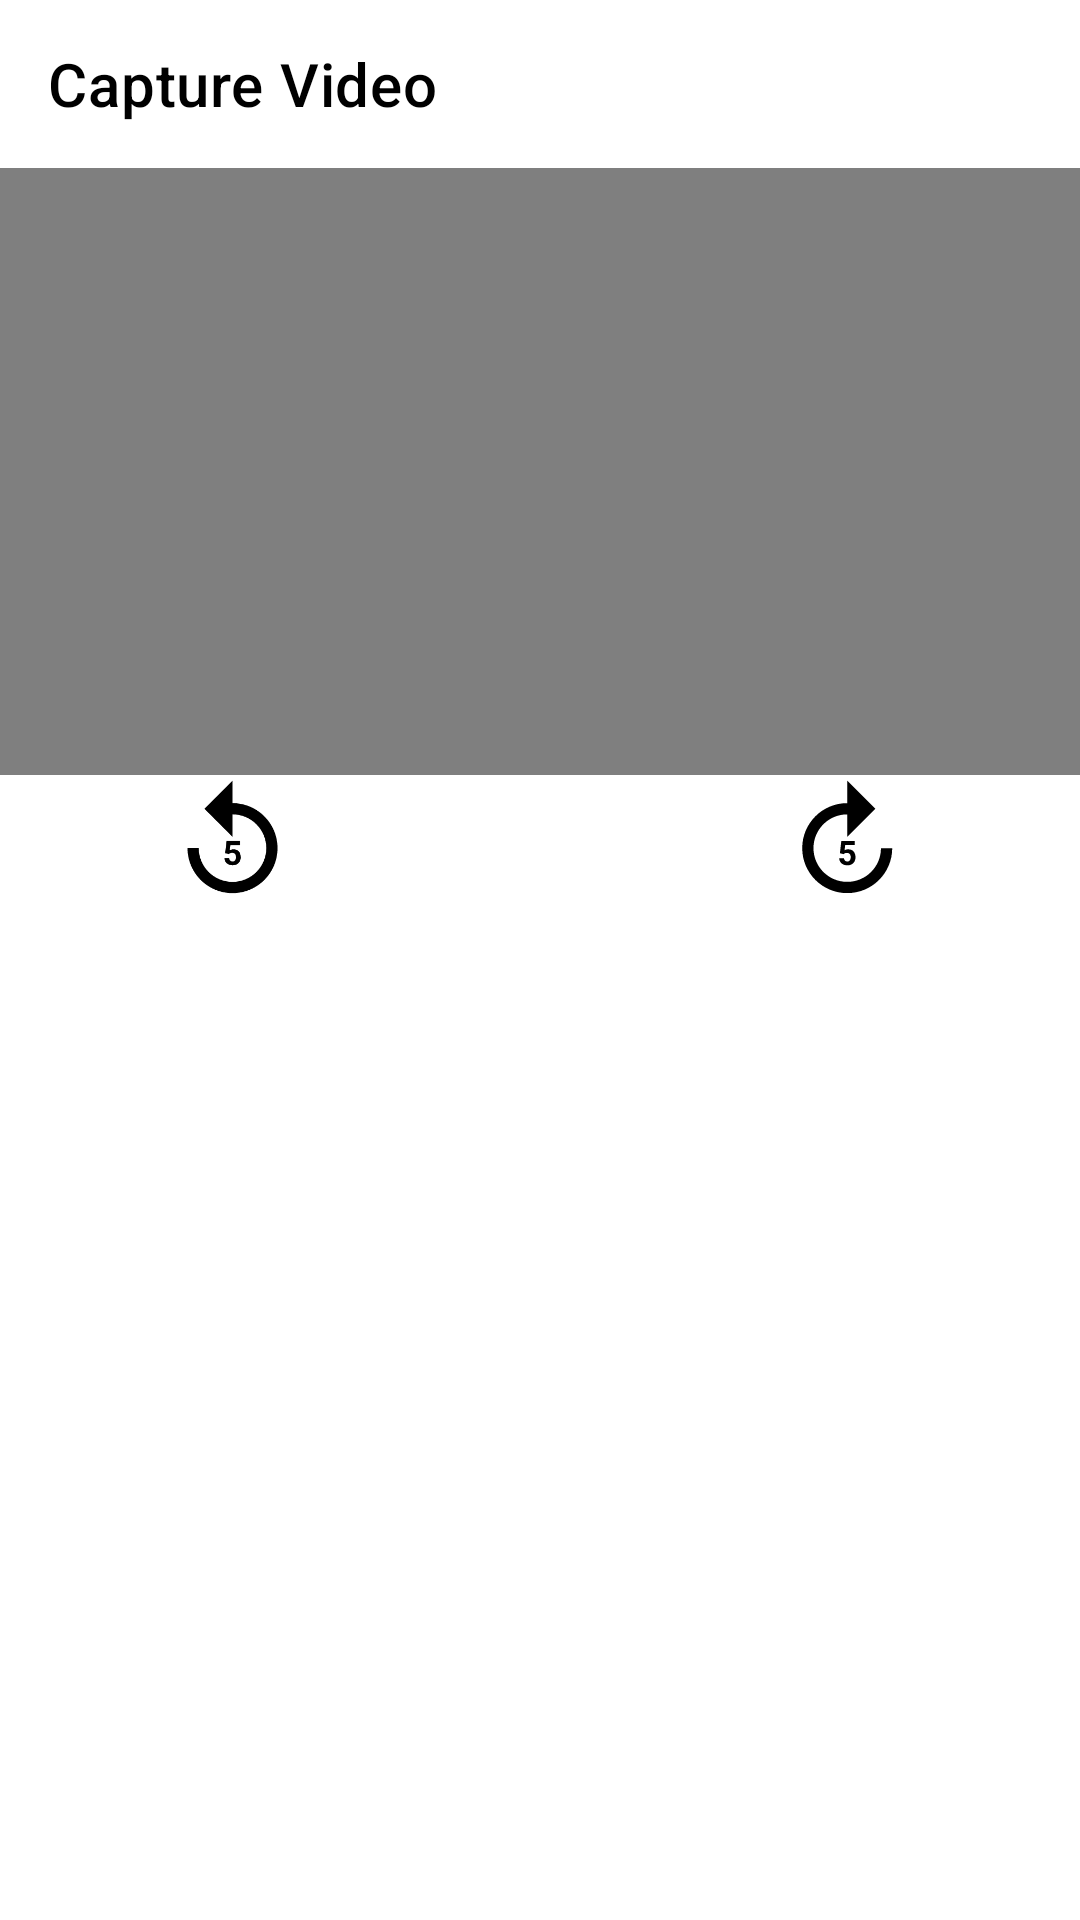

Screen size 1080px x 1920px. Icon name, then its box in pixels as (x1, y1, x2, y2):
forward: (802, 781, 893, 893)
replay: (187, 781, 278, 894)
